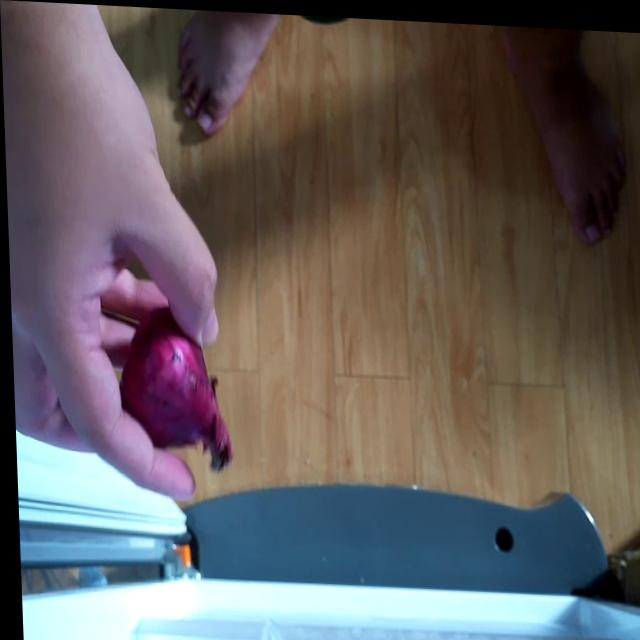onion: (114, 305, 231, 473)
